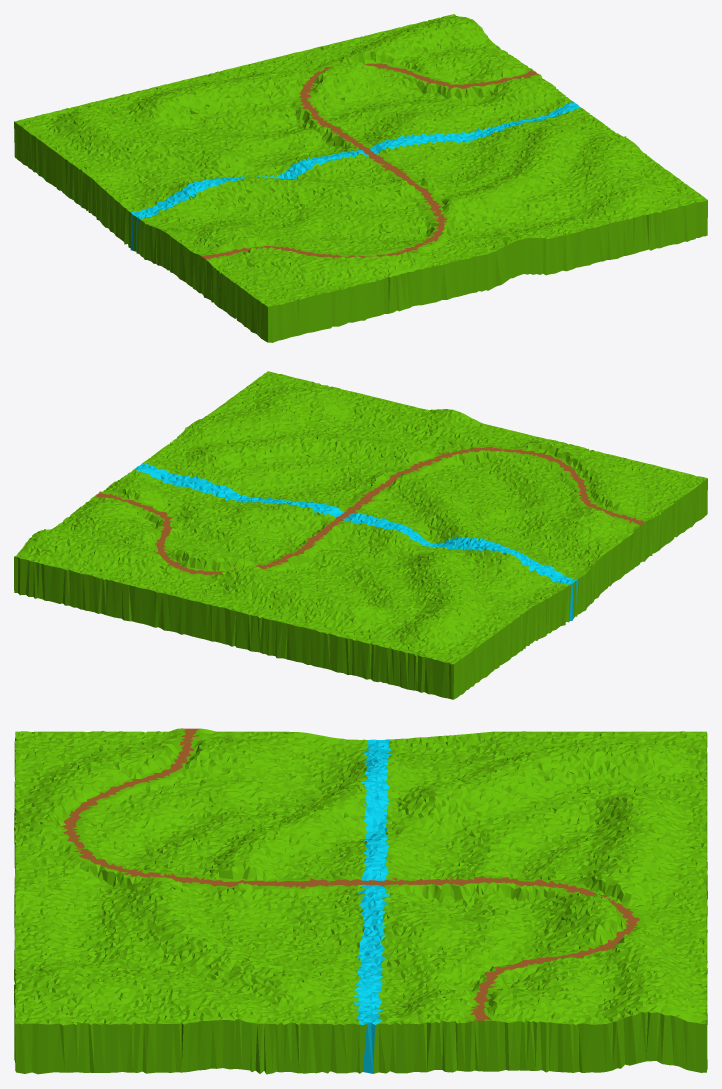
The model's file is mapSummer.fbx.
The picture shows the model from 3 angles, top to bottom: view 1: azimuth 30°, elevation 25°; view 2: azimuth 150°, elevation 25°; view 3: azimuth 270°, elevation 25°; orthographic projection. The views are drawn at different scales.
Parts seen in each view (by area): view 1: Plane.001; view 2: Plane.001; view 3: Plane.001.
Part boxes in pixels (<box>): Plane.001: <box>14,14,707,342</box>; Plane.001: <box>14,371,707,699</box>; Plane.001: <box>14,728,707,1074</box>.
Size of the model in its own units: 24097 by 3010 by 24080.
